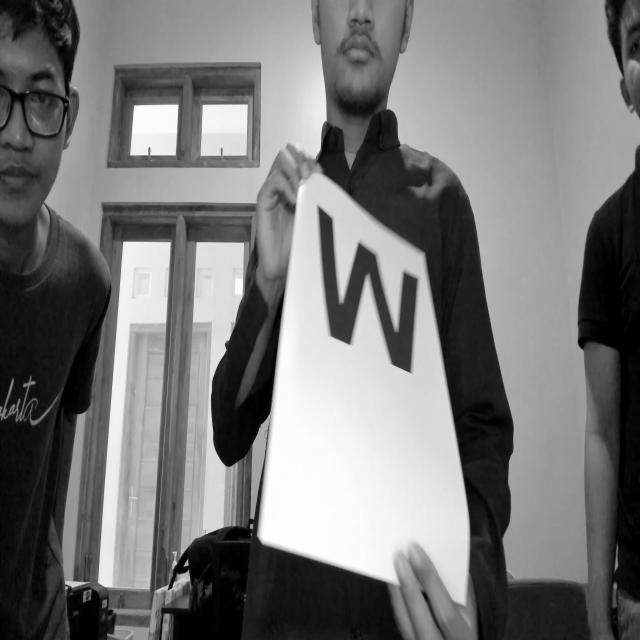w: (312, 190, 430, 403)
